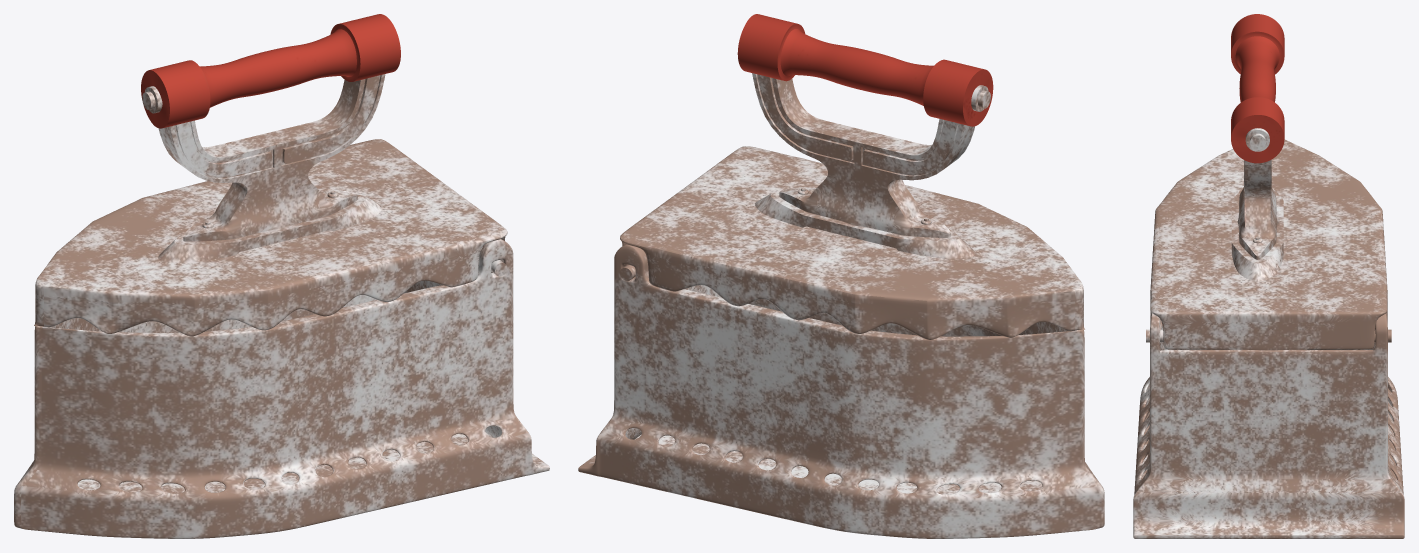
The model's file is Iron.fbx.
The picture shows the model from 3 angles, left to right: view 1: azimuth 30°, elevation 25°; view 2: azimuth 150°, elevation 25°; view 3: azimuth 270°, elevation 25°; orthographic projection. The views are drawn at different scales.
Parts seen in each view (by area): view 1: Iron.001; view 2: Iron.001; view 3: Iron.001.
Boxes of the visible parts, x1,y1,x2,y2 form: Iron.001: [14, 14, 549, 538]; Iron.001: [578, 14, 1104, 538]; Iron.001: [1133, 14, 1404, 538].
Size of the model in its own units: 31.09 by 27.61 by 17.73.
Materials: 1 (1 with a texture image).
